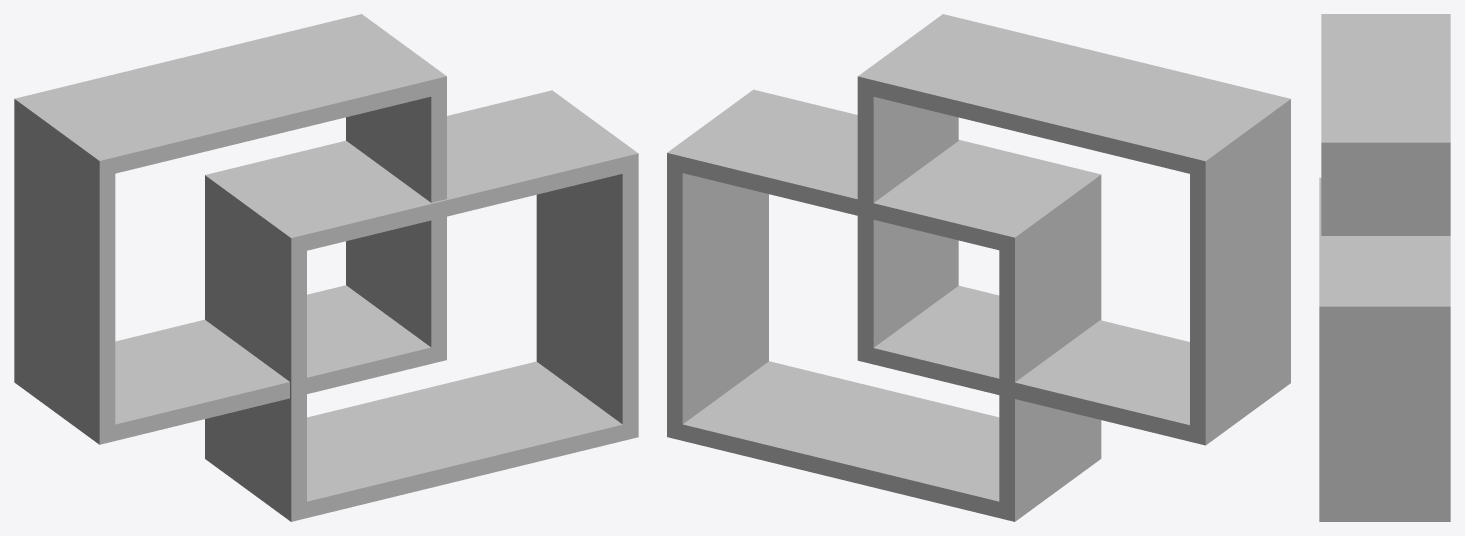
Rendered from Shelf_07.fbx.
3 renders of one model, left to right at view 1: azimuth 30°, elevation 25°; view 2: azimuth 150°, elevation 25°; view 3: azimuth 270°, elevation 25°, orthographic. The views are drawn at different scales.
Visible parts, largest first — view 1: Shelf_07; view 2: Shelf_07; view 3: Shelf_07.
Part boxes in pixels (box(x1,y1,x2,y2)): Shelf_07: box(14, 14, 638, 521); Shelf_07: box(667, 14, 1290, 521); Shelf_07: box(1319, 14, 1450, 521).
Bounding box in the file's own units: 42.44 × 30.66 × 11.79.
